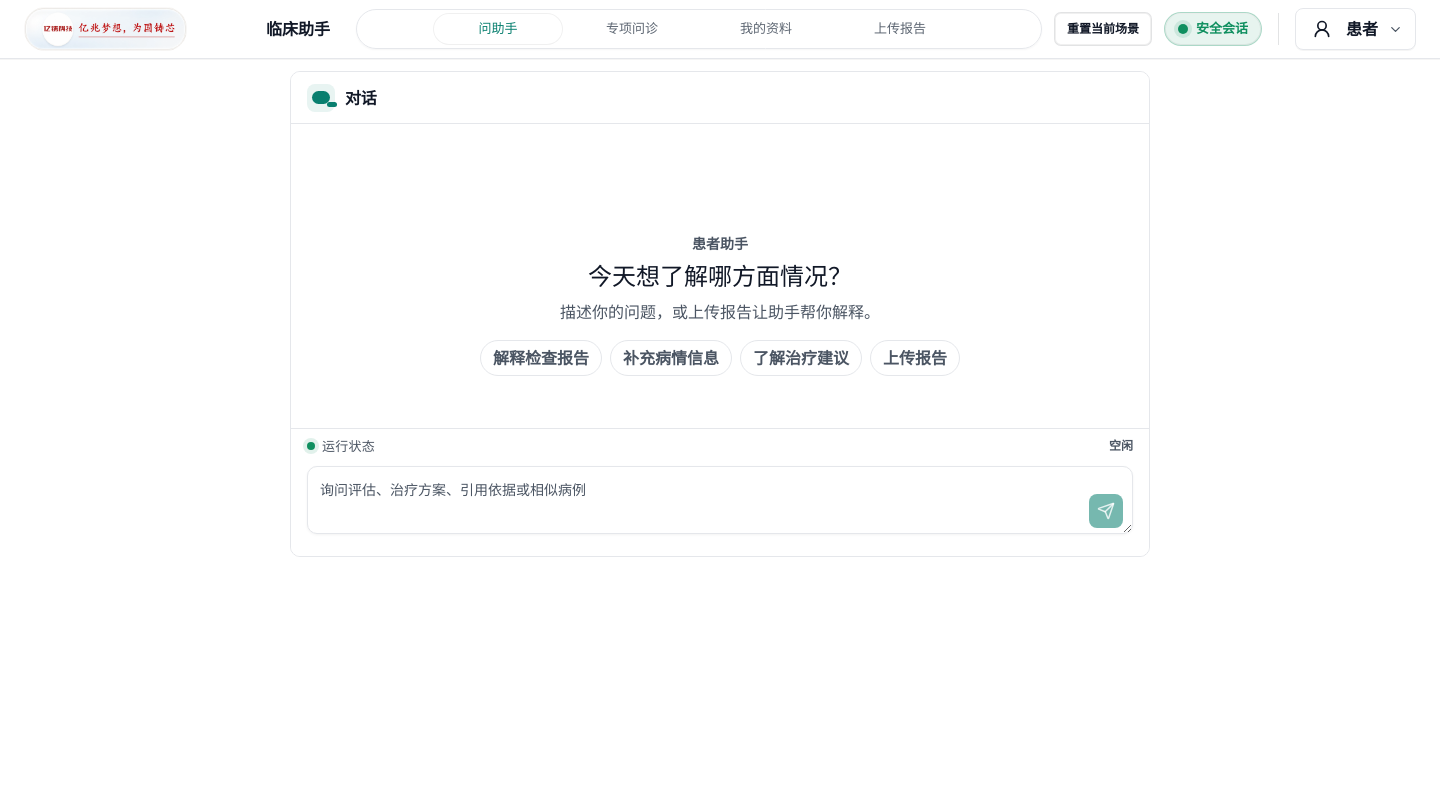
Test: WorkspacePage patient triage submission wiring › renders patient chrome with the collapsible workspace surface switcher
Expected: the navigation bar named "患者工作台" is shown, [356, 9, 1042, 49]
Click the button with aria-label "切换工作台，当前为患者": click(1356, 29) [1295, 8, 1416, 50]
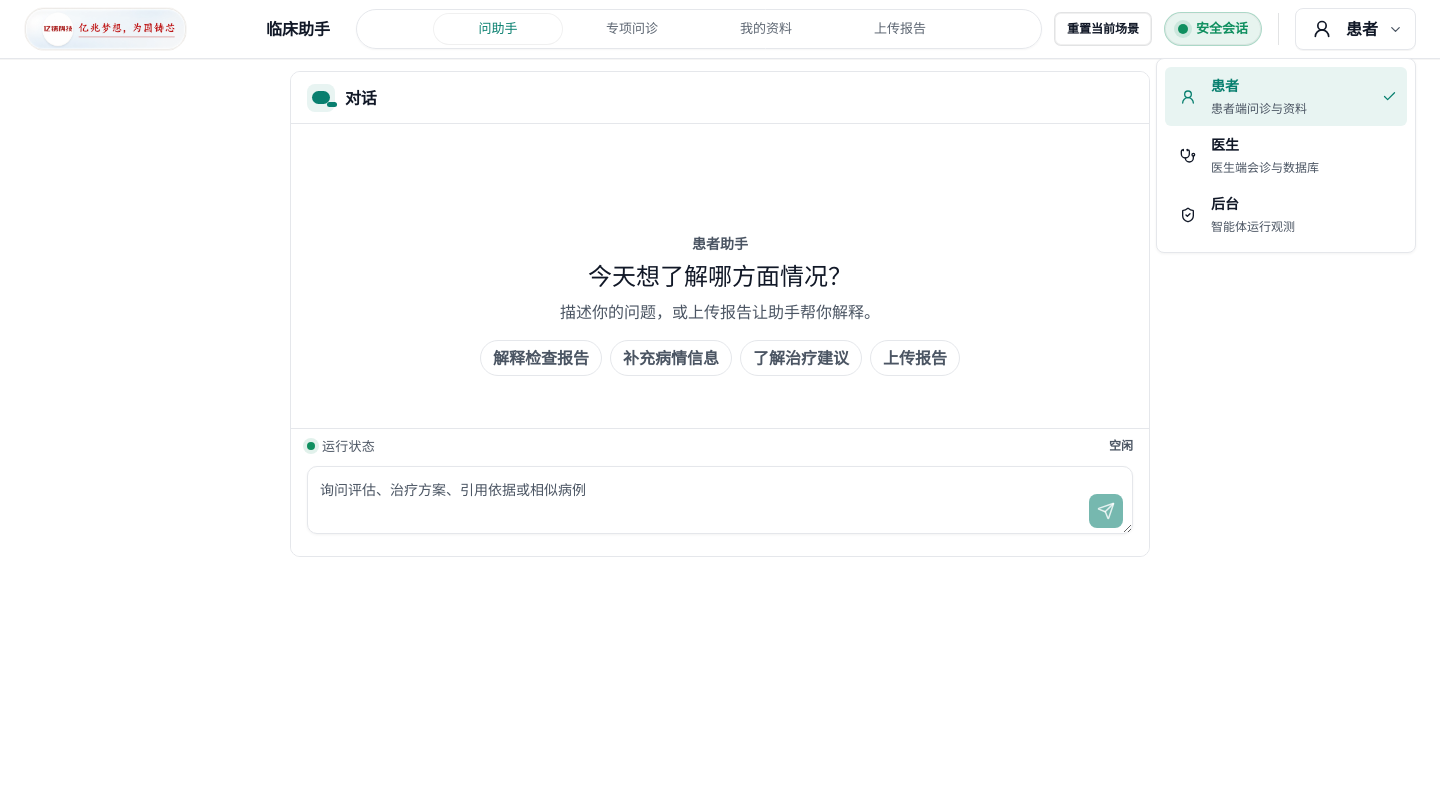
Now the menu named "工作台切换" is shown, box [1156, 58, 1416, 253]
Now the menu item "医生 医生端会诊与数据库" is shown, box [1165, 126, 1407, 185]
Now the menu item "后台 智能体运行观测" is shown, box [1165, 185, 1407, 244]
